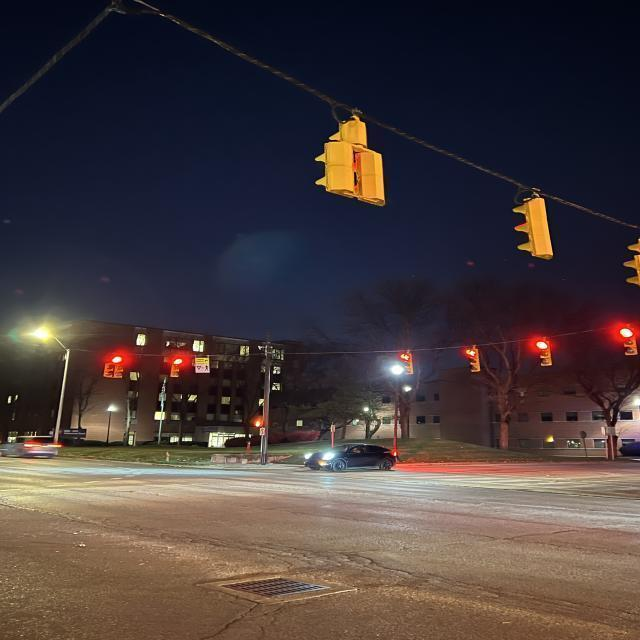red_light: (98, 348, 136, 380), (530, 336, 562, 370), (393, 342, 420, 382), (614, 326, 640, 365), (163, 348, 189, 383), (465, 342, 483, 382)
